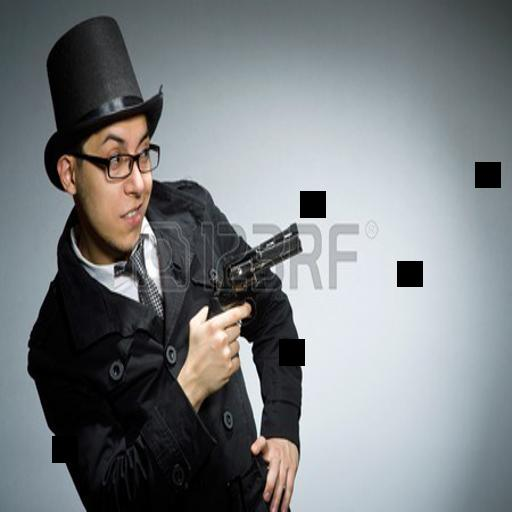Handgun: (206, 222, 298, 327)
